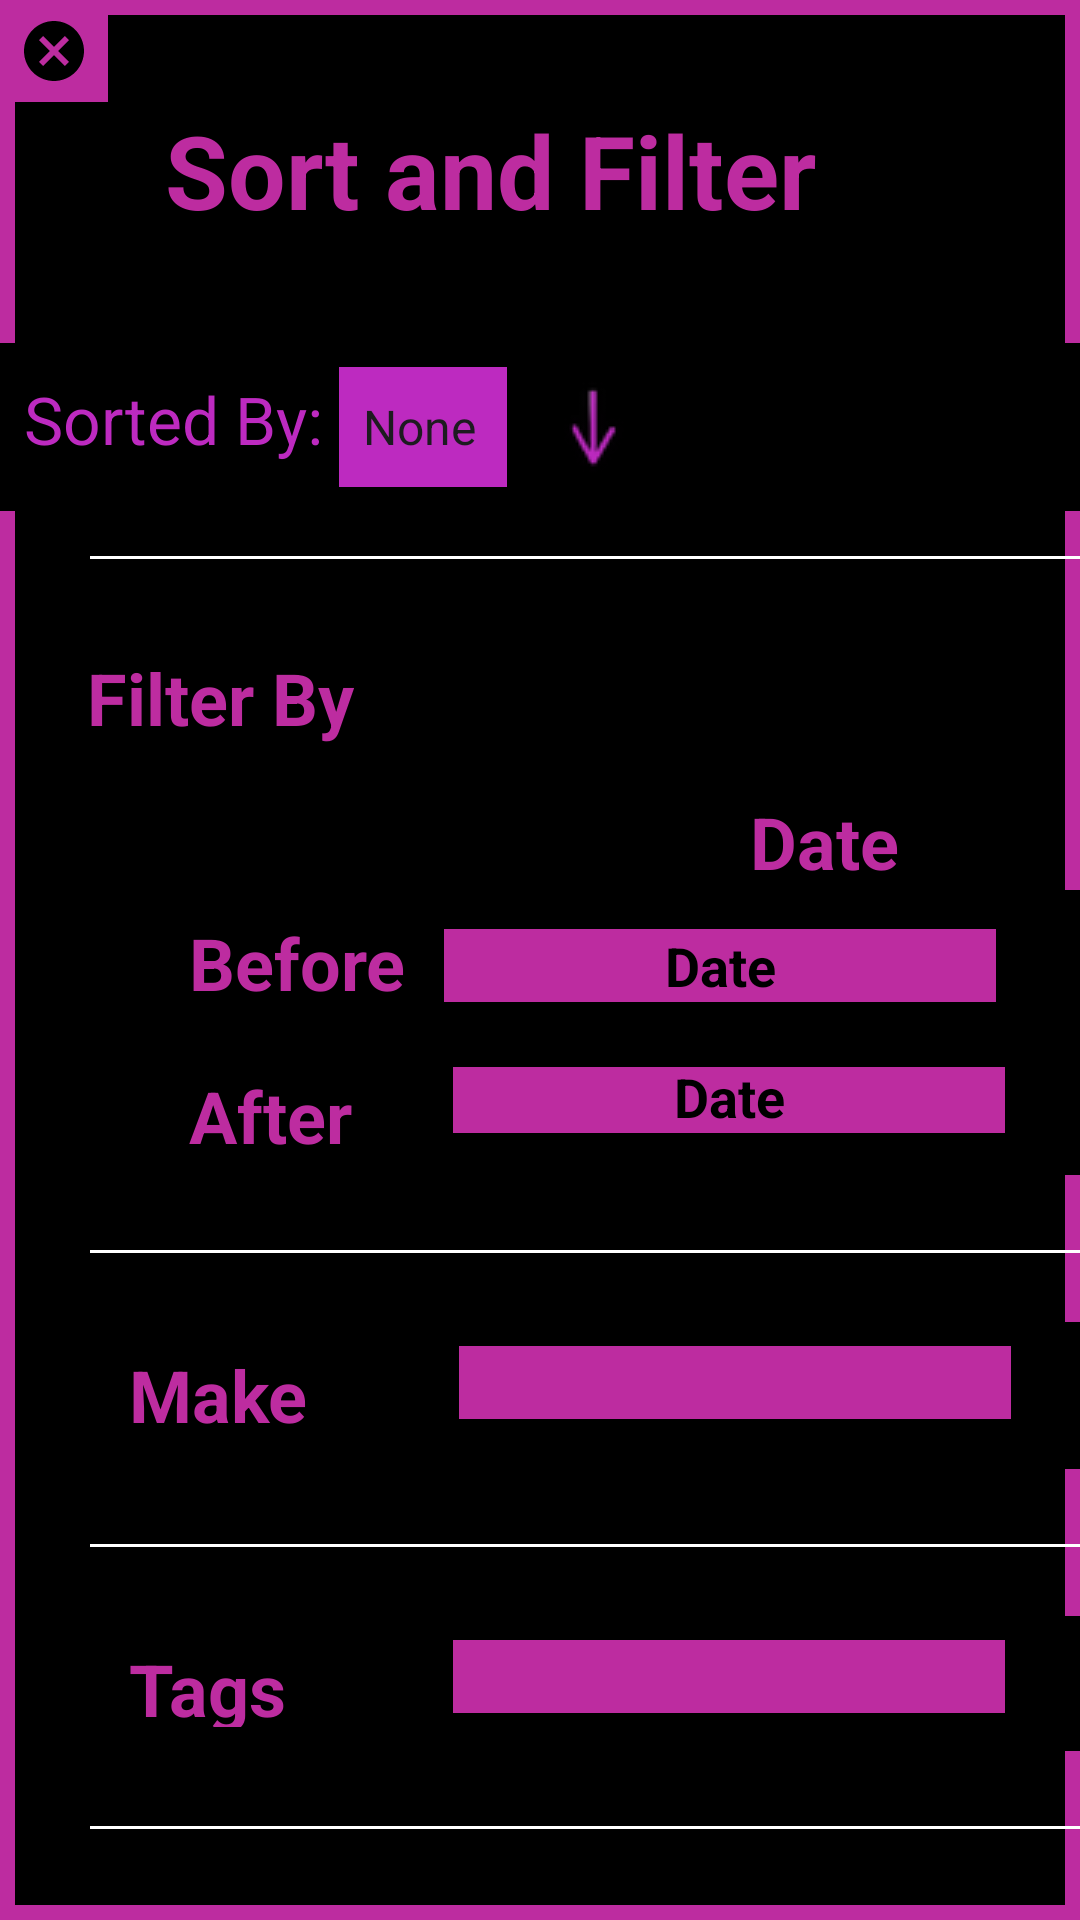

Icons on this 1080*1920 Android screen, each with its box as (x1, y1, x2, y2):
cancel: (0, 0, 108, 102)
Click to switch the sorting of items: (571, 390, 616, 466)
